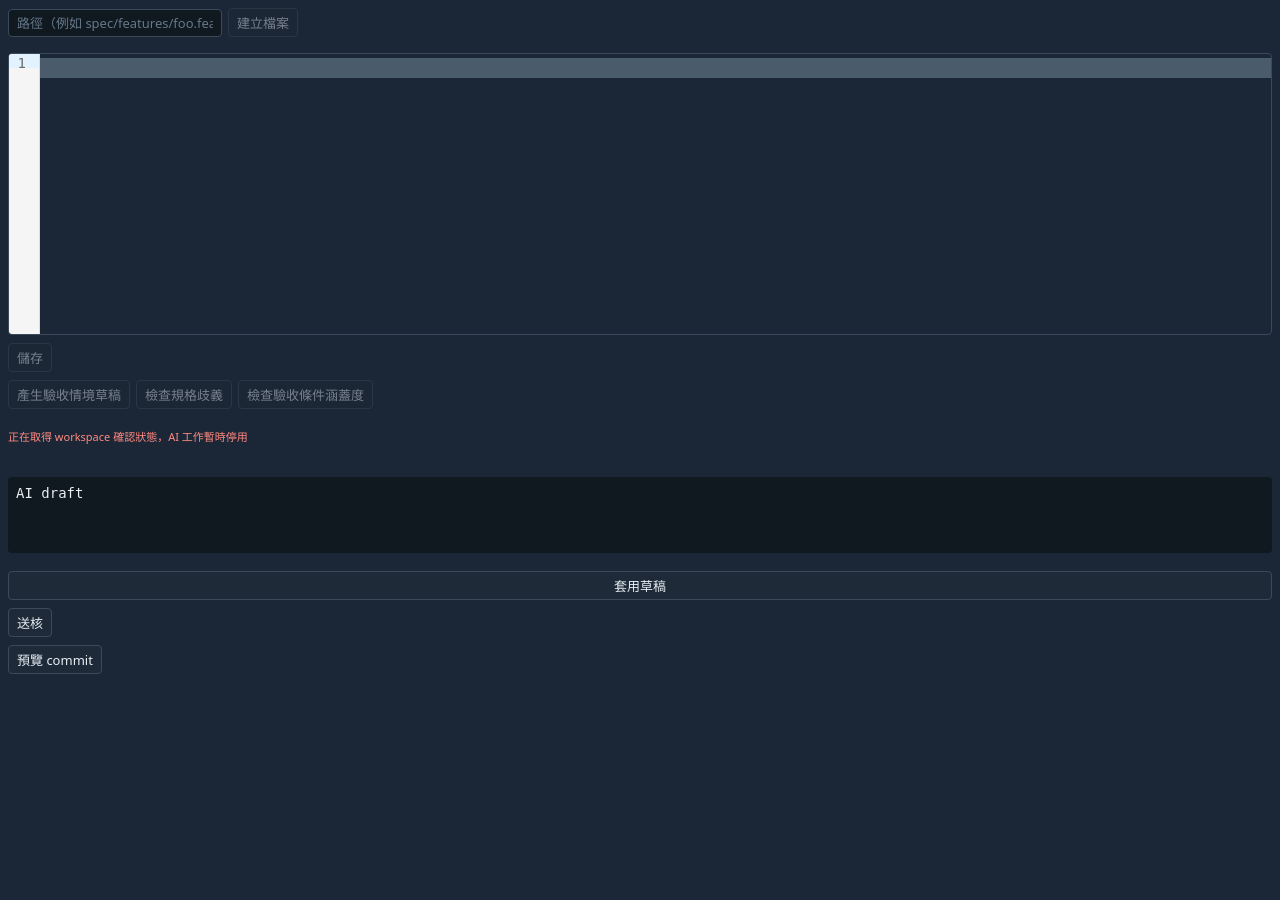
Test: SpecWorkspace 非同步儲存契約（A1a-1，expected-red） › 兩入口-accept：acceptDraft 寫入前預檢發現外部變更——中止，writer 呼叫次數 0，顯示中止原因
Click the button with test id "accept-draft": (640, 586) [8,571,1272,600]
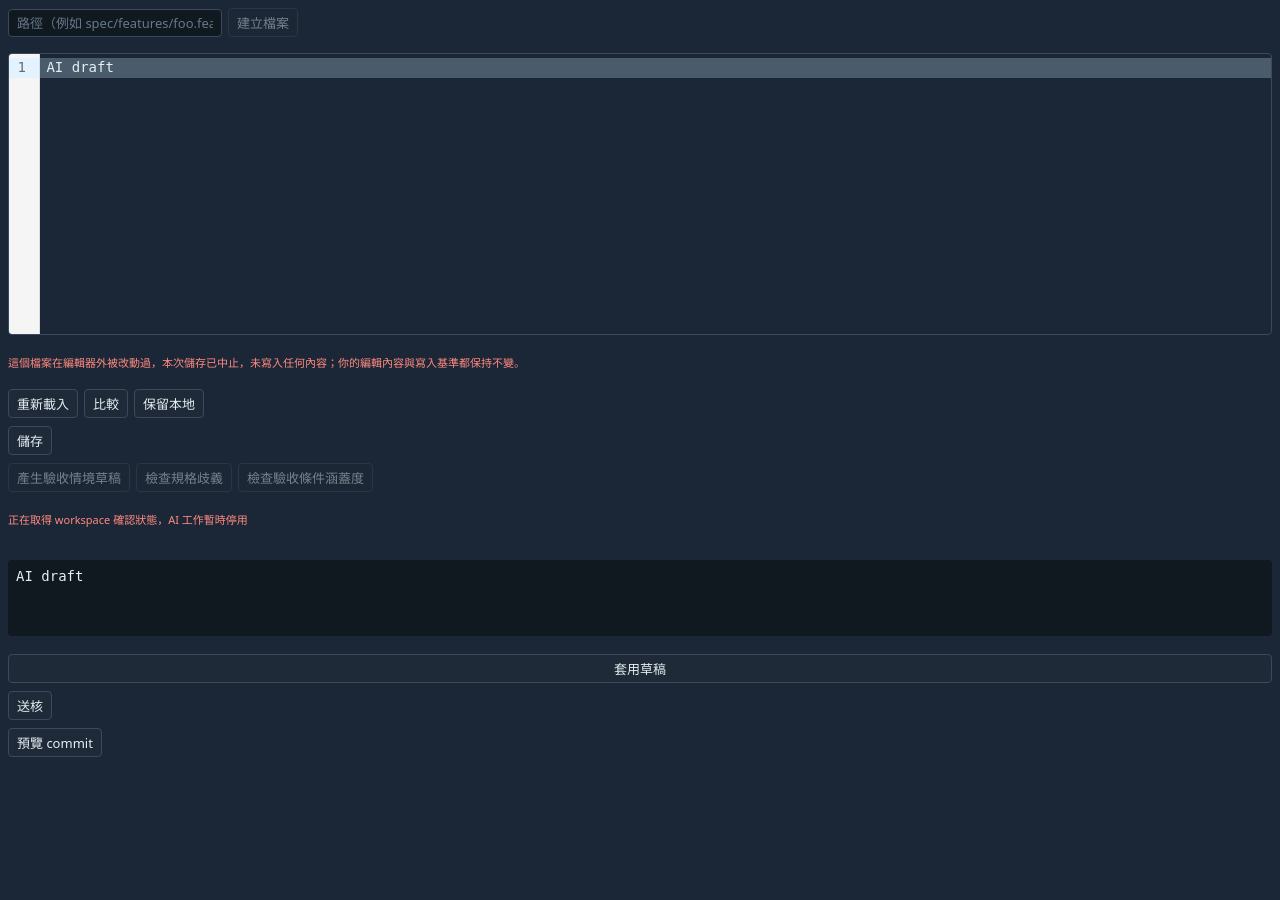
Check: the text box labelled "AI draft" is shown, box [40,58,1271,78]
Check: the text with test id "external-abort" reads "這個檔案在編輯器外被改動過，本次儲存已中止，未寫入任何內容；你的編輯內容與寫入基準都保持不變。", box [8,355,525,370]
